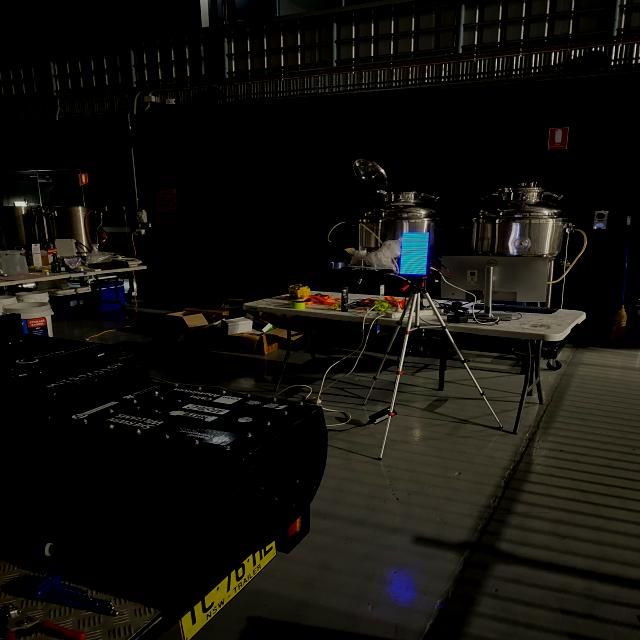matrix: (398, 230, 434, 276), (400, 230, 430, 275), (402, 232, 426, 275), (426, 234, 432, 236)
